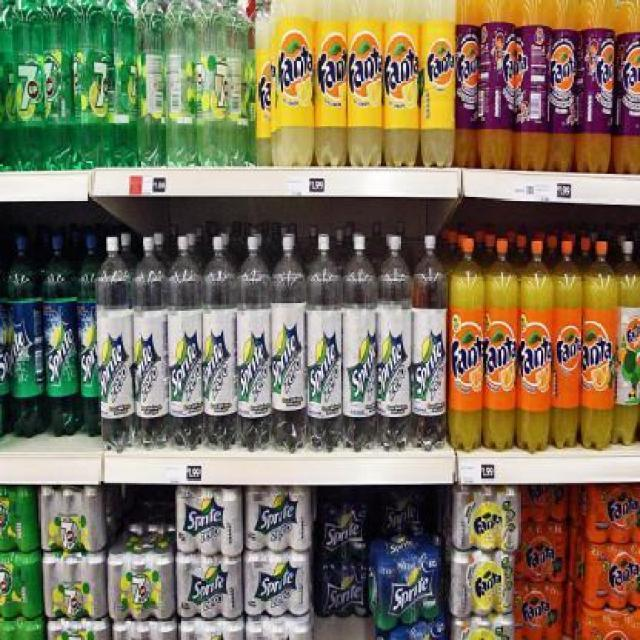Drinks: (166, 235, 204, 453), (95, 235, 133, 452), (306, 234, 343, 454), (203, 236, 241, 450), (236, 235, 273, 453), (579, 239, 617, 451), (272, 236, 309, 453), (133, 237, 170, 453), (482, 237, 519, 453), (516, 239, 553, 455), (342, 235, 378, 453), (377, 235, 413, 453), (411, 236, 447, 453), (449, 239, 485, 453), (9, 234, 46, 438), (44, 233, 80, 437), (370, 536, 446, 630), (549, 240, 583, 449), (515, 0, 552, 172), (578, 0, 615, 172), (12, 0, 49, 171), (479, 0, 516, 171), (419, 0, 456, 168), (276, 0, 313, 166), (107, 532, 176, 620), (348, 0, 384, 168), (383, 0, 419, 166), (545, 0, 579, 172), (612, 239, 640, 447), (73, 0, 107, 168), (314, 0, 348, 168), (107, 0, 139, 168), (195, 0, 227, 168), (79, 233, 105, 437), (43, 0, 74, 171), (175, 485, 244, 557), (166, 0, 195, 169), (138, 1, 167, 169), (452, 485, 520, 553), (37, 487, 106, 553), (243, 486, 312, 552), (176, 554, 244, 620), (243, 552, 312, 616), (42, 554, 108, 620), (450, 551, 514, 617), (614, 0, 638, 174), (312, 487, 370, 559), (456, 0, 479, 169), (583, 544, 640, 610), (312, 556, 370, 618), (586, 484, 640, 546), (369, 487, 437, 536), (516, 523, 570, 583), (514, 582, 568, 639), (521, 483, 569, 521)
